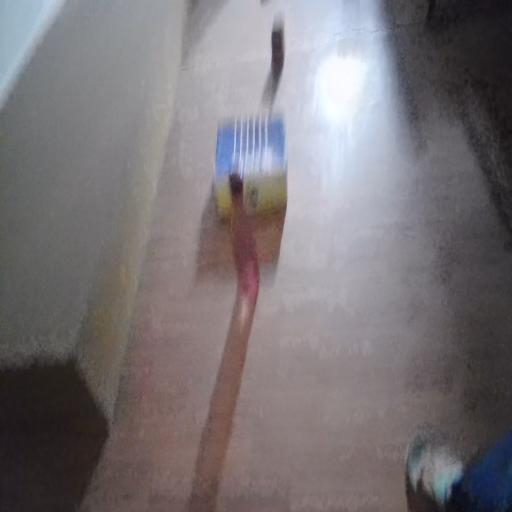Bottle: (211, 164, 266, 308)
